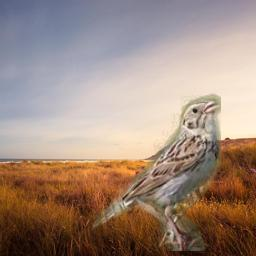Sparrow: (93, 93, 221, 251)
